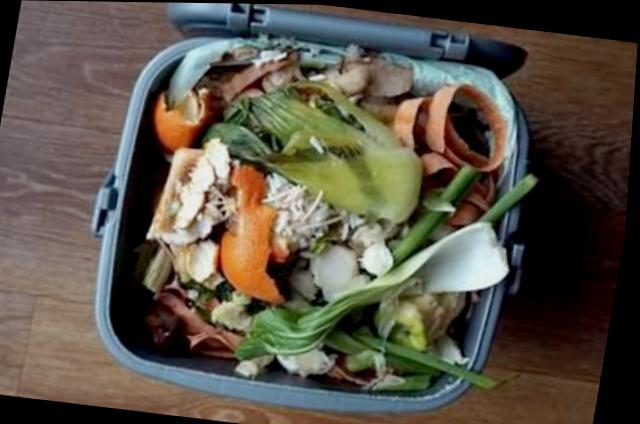Garbage: (132, 37, 526, 400)
